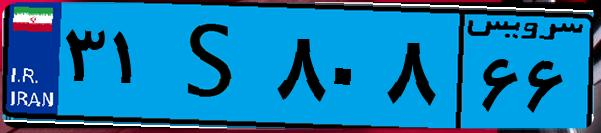0: (330, 28, 385, 110)
1: (110, 28, 158, 98)
3: (57, 26, 110, 100)
6: (475, 38, 525, 113), (525, 38, 570, 115)
8: (270, 28, 330, 110), (385, 28, 445, 110)
S: (158, 12, 270, 120)
